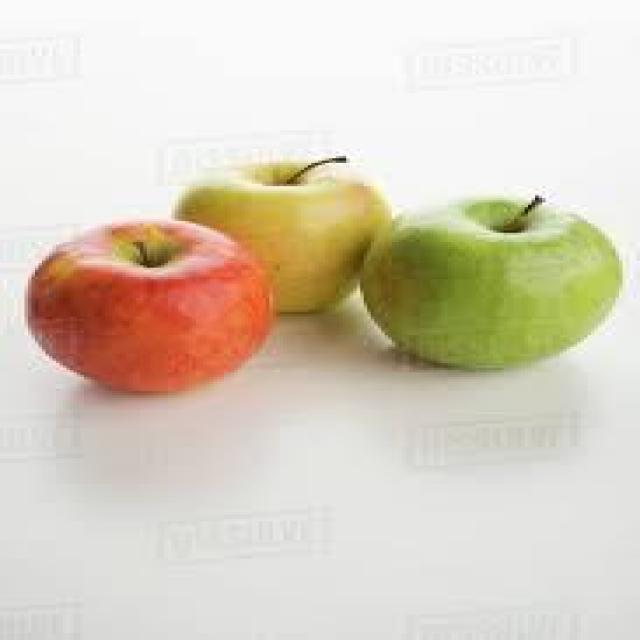maca: (357, 191, 622, 370), (21, 216, 273, 391), (168, 154, 388, 314)
